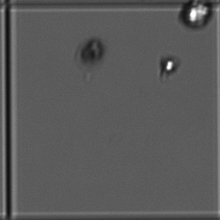Dead Cell: (79, 32, 106, 71)
Living Cell: (179, 1, 213, 37), (155, 52, 184, 83)
